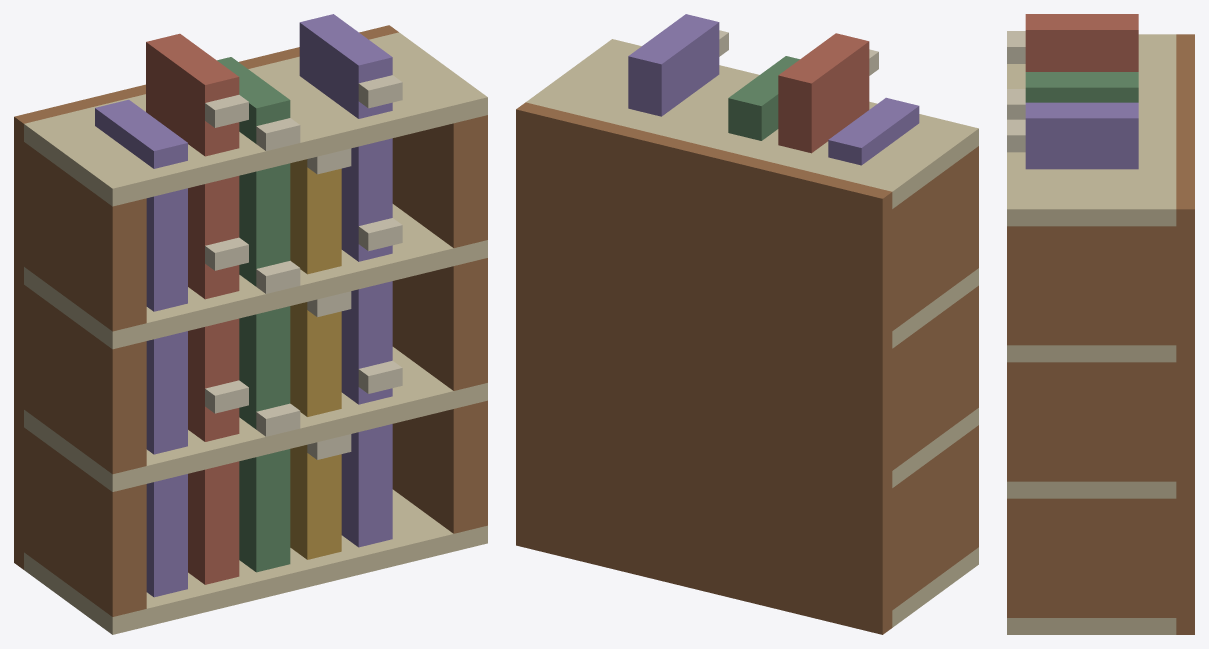
Rendered from software-10.glb.
3 renders of one model, left to right at view 1: azimuth 30°, elevation 25°; view 2: azimuth 150°, elevation 25°; view 3: azimuth 270°, elevation 25°, orthographic. The views are drawn at different scales.
Visible parts, largest first — view 1: Reference bookshelf; view 2: Reference bookshelf; view 3: Reference bookshelf.
Part boxes in pixels (<box>): Reference bookshelf: <box>14,14,487,634</box>; Reference bookshelf: <box>516,14,978,634</box>; Reference bookshelf: <box>1007,14,1194,634</box>.
Bounding box in the file's own units: 1.76 × 2.32 × 0.8.
